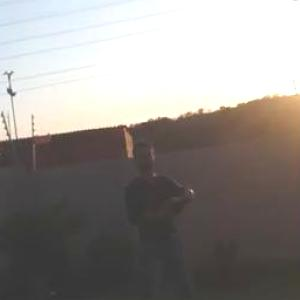follow: (117, 132, 199, 299)
